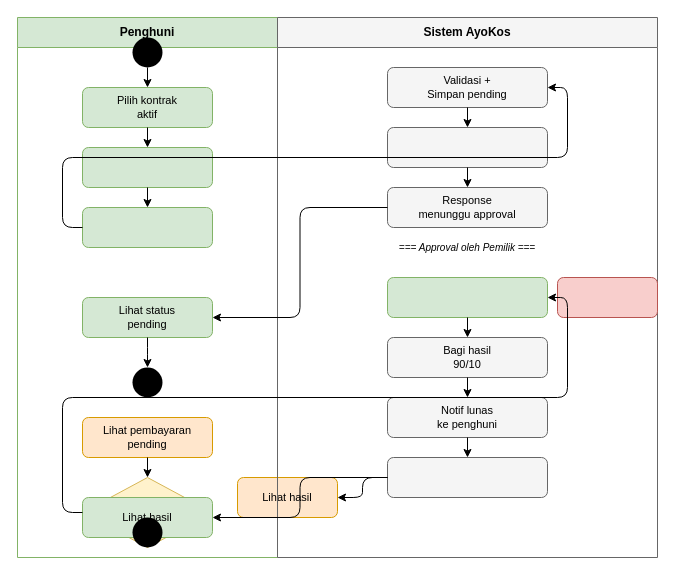
The diagram is 675 pixels wide and 575 high, and some of its shapes have lost their labels. Each missing label, with the centre of its shape:
"Input jumlah upload bukti" belongs at point (147, 167).
"Klik Bayar" belongs at point (147, 227).
"Notif ke pemilik" belongs at point (467, 147).
"Response sukses" belongs at point (467, 477).
"Setujui" belongs at point (467, 297).
"Tolak" belongs at point (607, 297).
